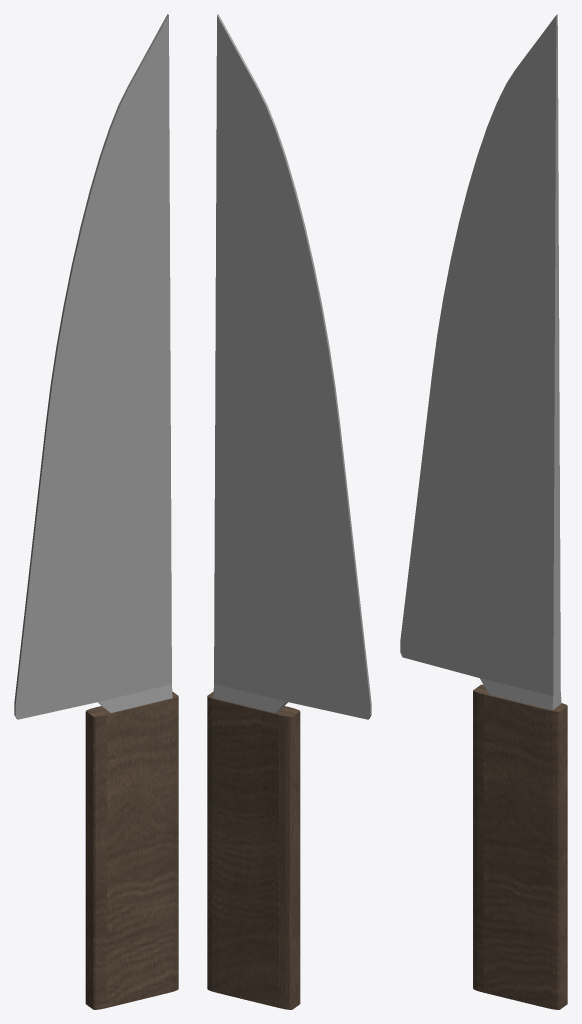
The model's file is kitchen_knife.glb.
3 renders of one model, left to right at view 1: azimuth 30°, elevation 25°; view 2: azimuth 150°, elevation 25°; view 3: azimuth 330°, elevation 25°, orthographic.
Visible parts, largest first — view 1: Blade, Handle; view 2: Blade, Handle; view 3: Blade, Handle.
Boxes of the visible parts, bbox=[...] form: Blade: bbox=[14, 14, 172, 719]; Handle: bbox=[85, 691, 178, 1009]; Blade: bbox=[213, 14, 371, 719]; Handle: bbox=[207, 691, 300, 1009]; Blade: bbox=[400, 14, 561, 710]; Handle: bbox=[473, 684, 567, 1009].
Bounding box in the file's own units: 0.0517 × 0.3002 × 0.00599.
2 materials, 2 textured.
